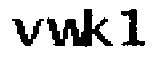1: (116, 7, 147, 49)
k: (83, 6, 114, 51)
v: (9, 16, 45, 49)
w: (45, 16, 88, 50)
